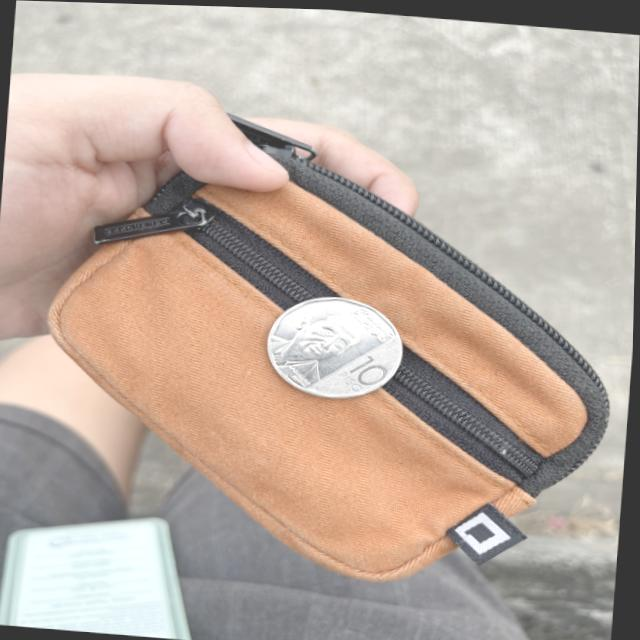10_New_Front: (333, 345, 395, 401)
